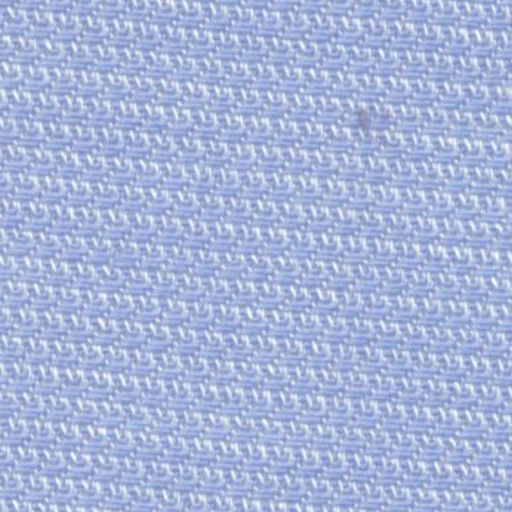WuZi: (337, 94, 393, 148)
